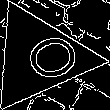O_SW: (4, 27, 75, 88)
